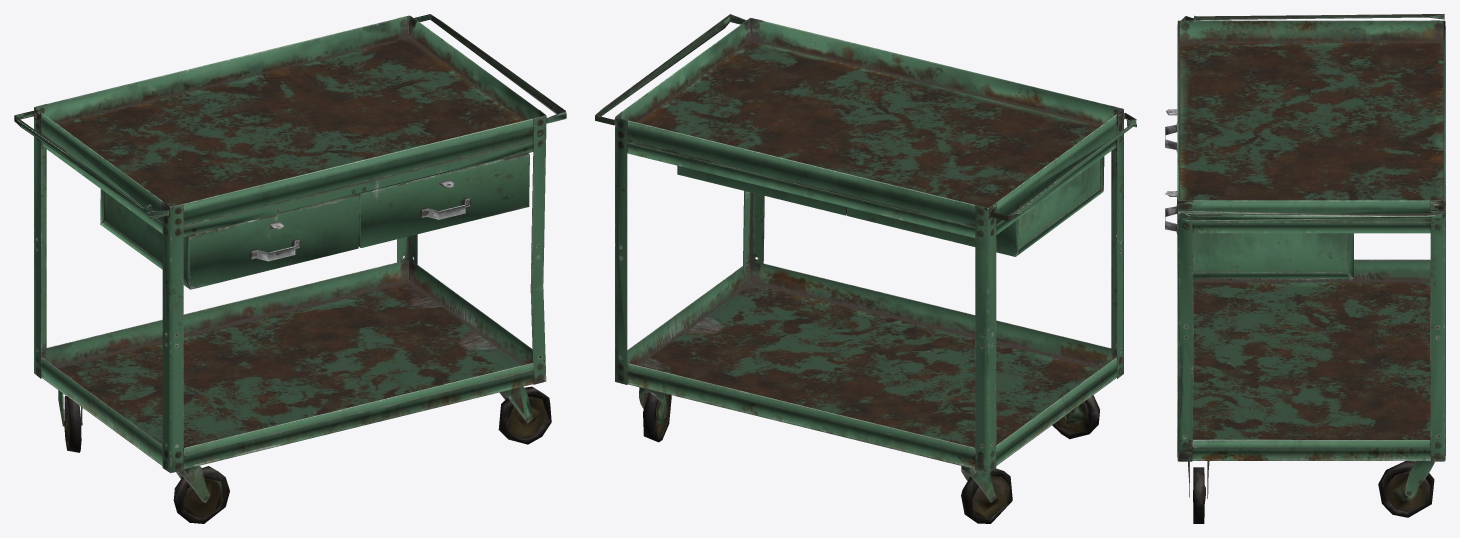
The model's file is tool_cart.glb.
3 renders of one model, left to right at view 1: azimuth 30°, elevation 25°; view 2: azimuth 150°, elevation 25°; view 3: azimuth 270°, elevation 25°, orthographic.
Parts seen in each view (by area): view 1: tool_cart; view 2: tool_cart; view 3: tool_cart.
Part boxes in pixels (box(x1,y1,x2,y2)): tool_cart: box(14, 14, 566, 523); tool_cart: box(595, 14, 1136, 523); tool_cart: box(1165, 14, 1445, 523).
Size of the model in its own units: 1.27 by 0.9619 by 0.7469.
Materials: 1 (1 with a texture image).
